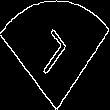L_SW: (34, 25, 76, 85)
